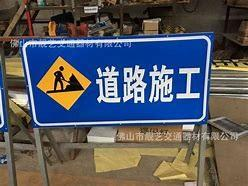sign: (21, 41, 207, 123)
